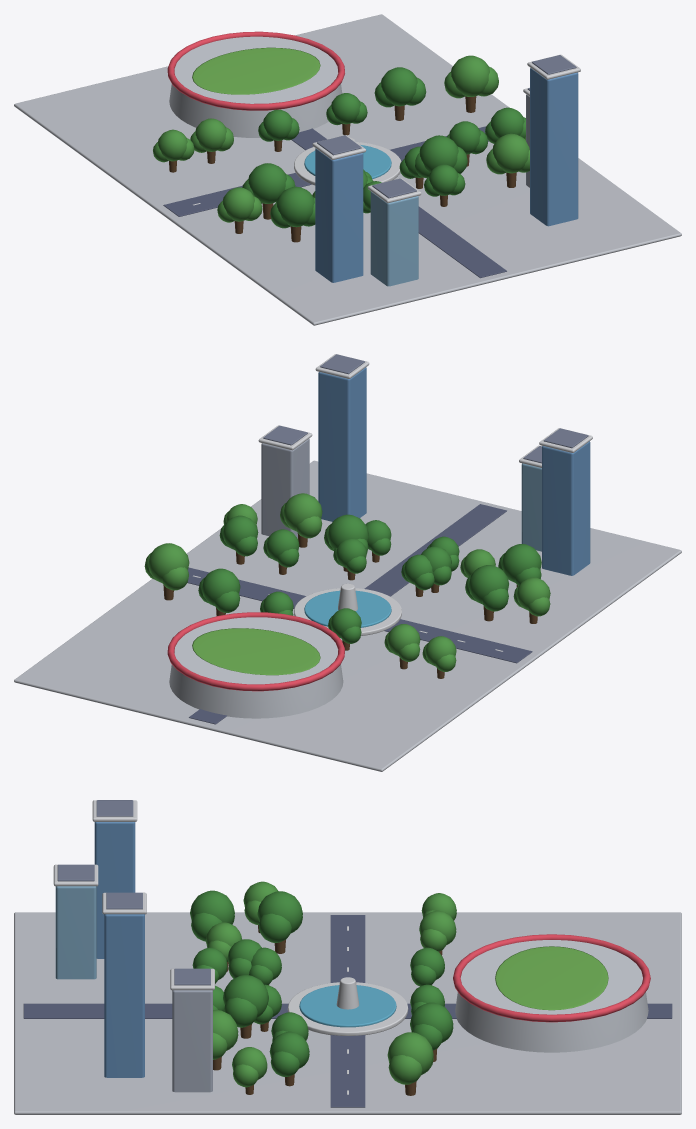
Rendered from centre.glb.
3 views of the same model, one above another, from view 1: azimuth 30°, elevation 25°; view 2: azimuth 150°, elevation 25°; view 3: azimuth 270°, elevation 25° (orthographic). The views are drawn at different scales.
Visible parts, largest first — view 1: Cube; view 2: Cube; view 3: Cube.
Boxes of the visible parts, <box> form: Cube: <box>14,14,681,325</box>; Cube: <box>14,354,681,771</box>; Cube: <box>14,800,681,1114</box>.
Size of the model in its own units: 4.88 by 1.96 by 6.88.
